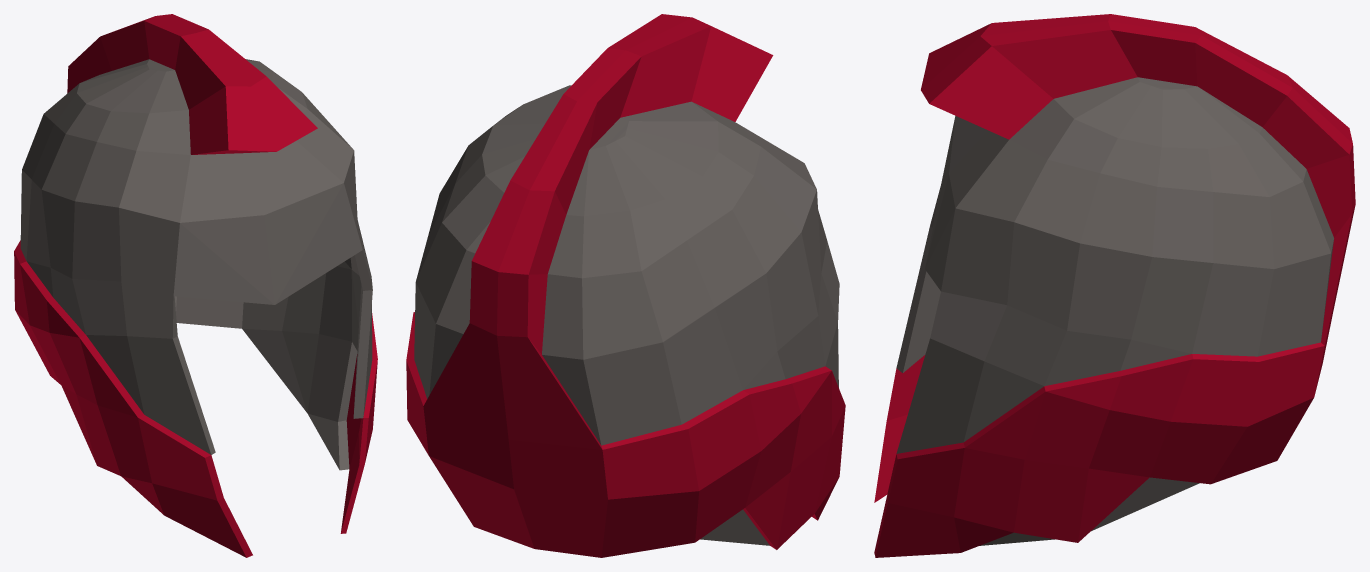
The model's file is Helmet.fbx.
The picture shows the model from 3 angles, left to right: view 1: azimuth 30°, elevation 25°; view 2: azimuth 150°, elevation 25°; view 3: azimuth 270°, elevation 25°; orthographic projection. The views are drawn at different scales.
Visible parts, largest first — view 1: Cylinder; view 2: Cylinder; view 3: Cylinder.
Part boxes in pixels (box(x1,y1,x2,y2)): Cylinder: box(14, 14, 377, 557); Cylinder: box(406, 14, 845, 557); Cylinder: box(874, 14, 1355, 557).
Bounding box in the file's own units: 20.54 × 29.58 × 25.37.
